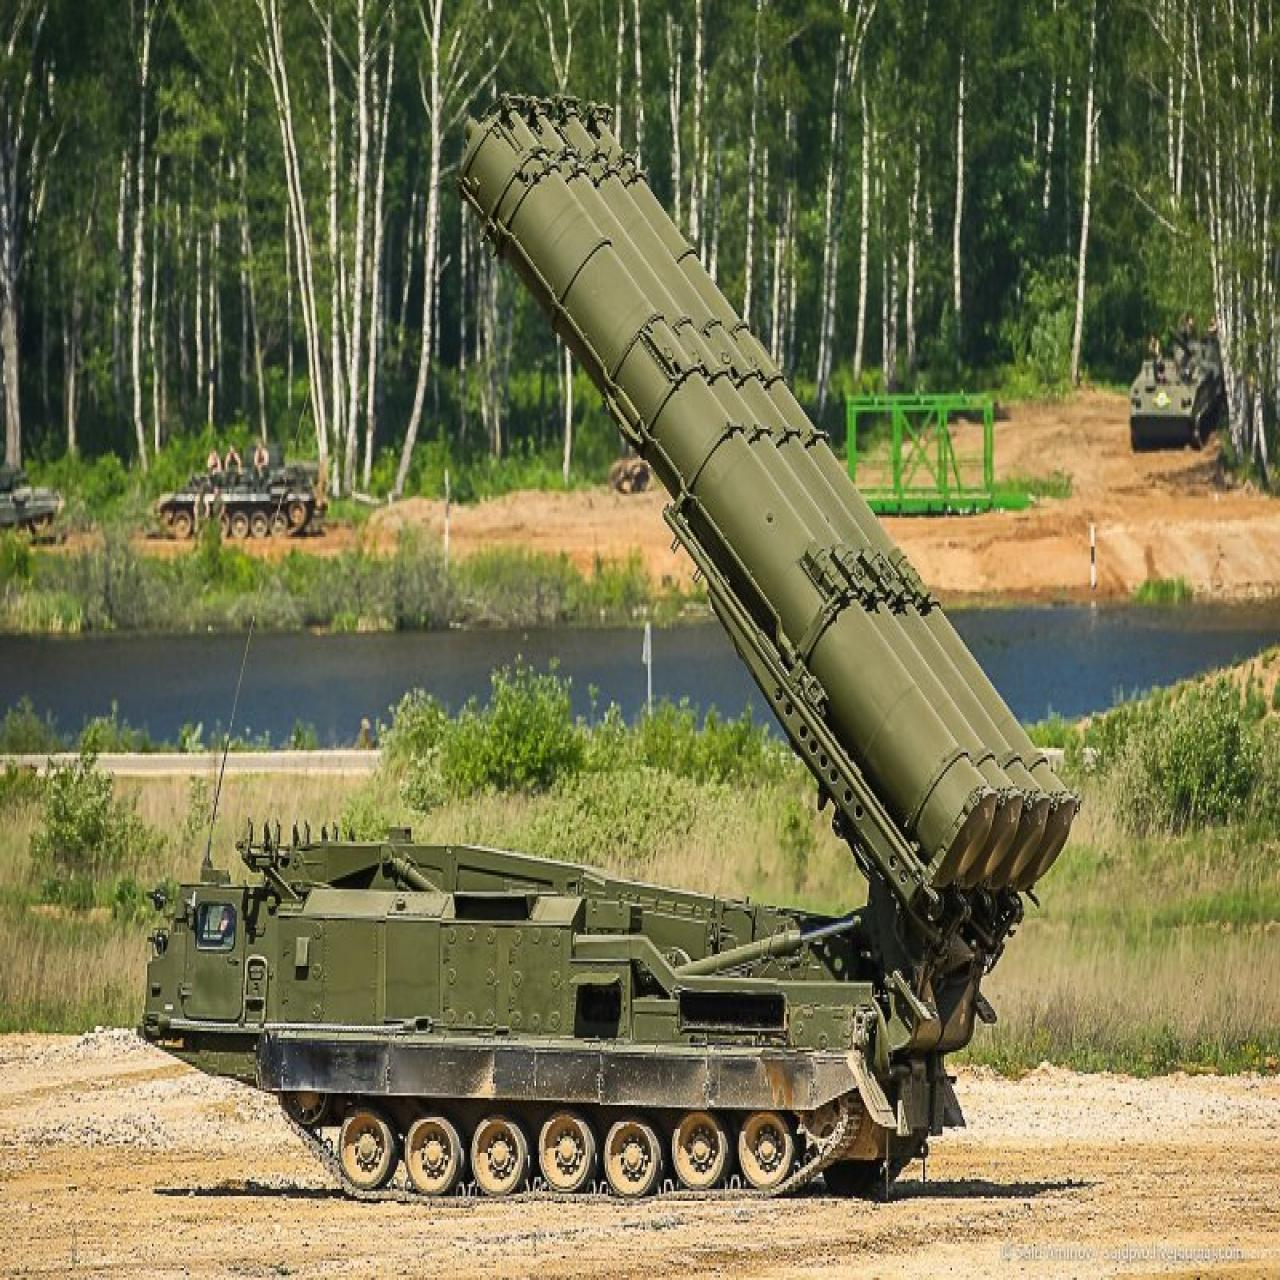MIL_Veh: (141, 90, 1077, 1197)
